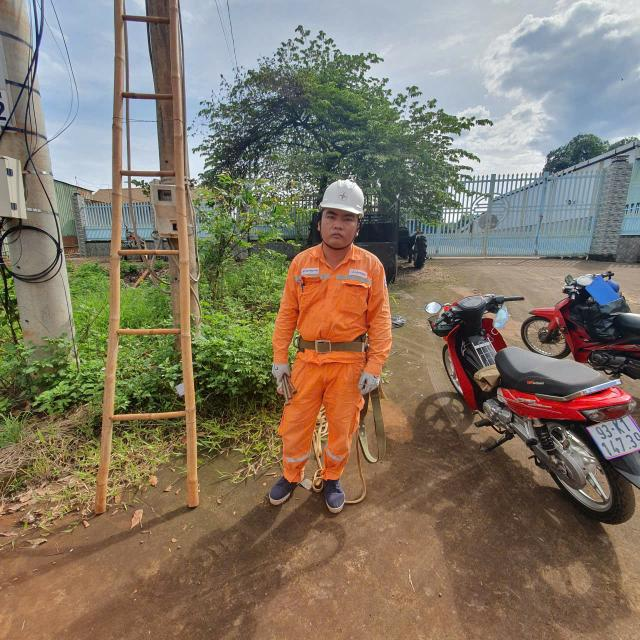gloves: (241, 343, 296, 393), (344, 364, 392, 404)
harness: (279, 331, 378, 357)
helmet: (304, 175, 372, 224)
shoes: (319, 467, 358, 523), (262, 475, 311, 515)
